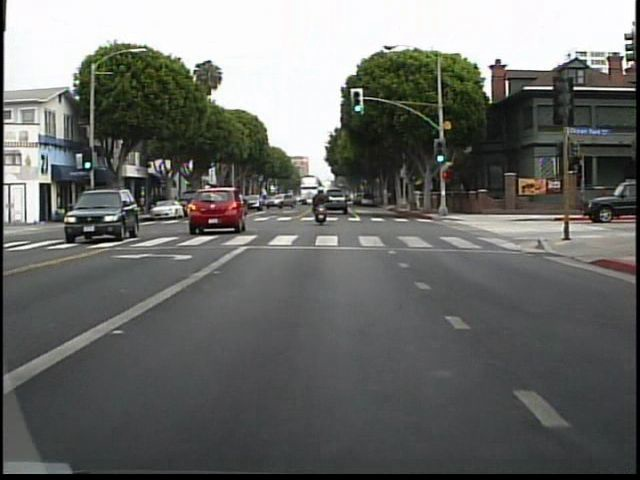person: (310, 182, 336, 229)
